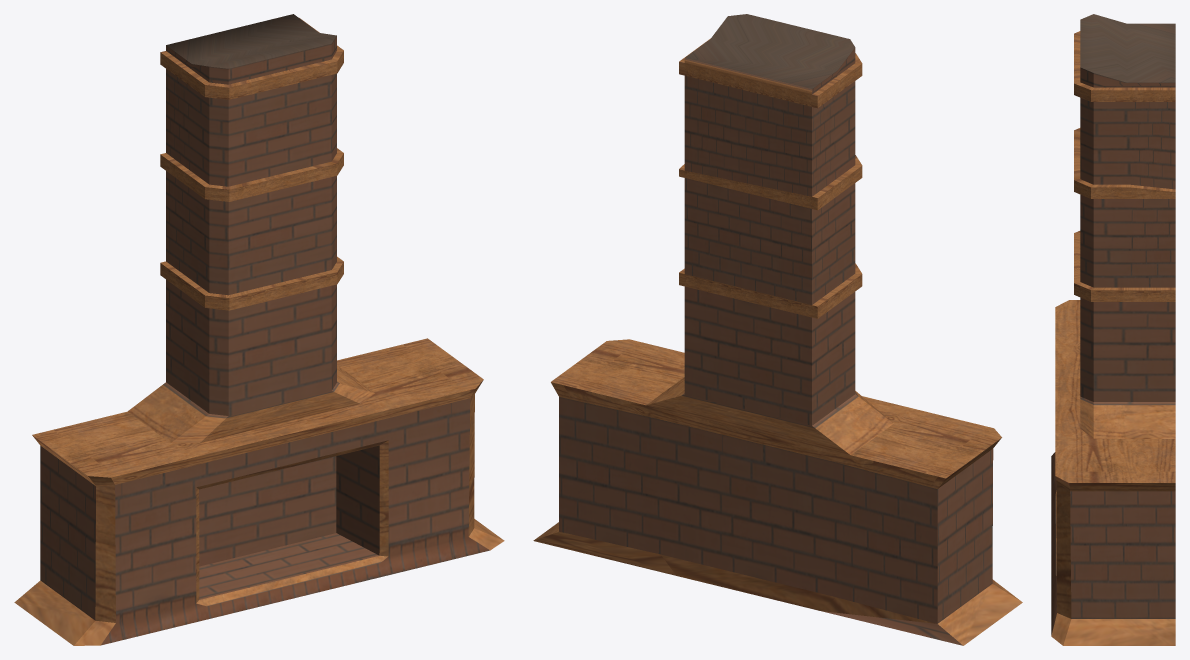
File: Fireplace.glb
3 renders of one model, left to right at view 1: azimuth 30°, elevation 25°; view 2: azimuth 150°, elevation 25°; view 3: azimuth 270°, elevation 25°, orthographic. The views are drawn at different scales.
Visible parts, largest first — view 1: Fireplace; view 2: Fireplace; view 3: Fireplace.
Part boxes in pixels (x1=…): Fireplace: x1=14, y1=14, x2=504, y2=645; Fireplace: x1=533, y1=14, x2=1022, y2=645; Fireplace: x1=1051, y1=14, x2=1175, y2=645.
Size of the model in its own units: 6.55 by 7.7 by 1.73.
1 material, 1 textured.
